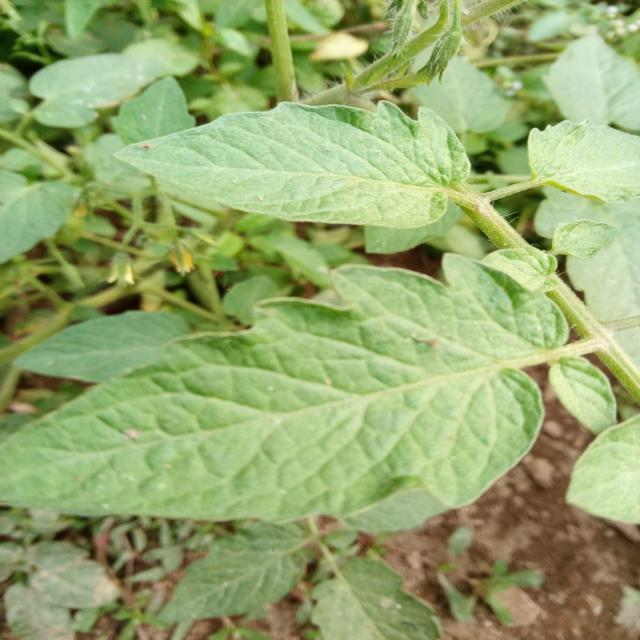Healthy: (0, 246, 585, 565), (112, 83, 474, 232)
